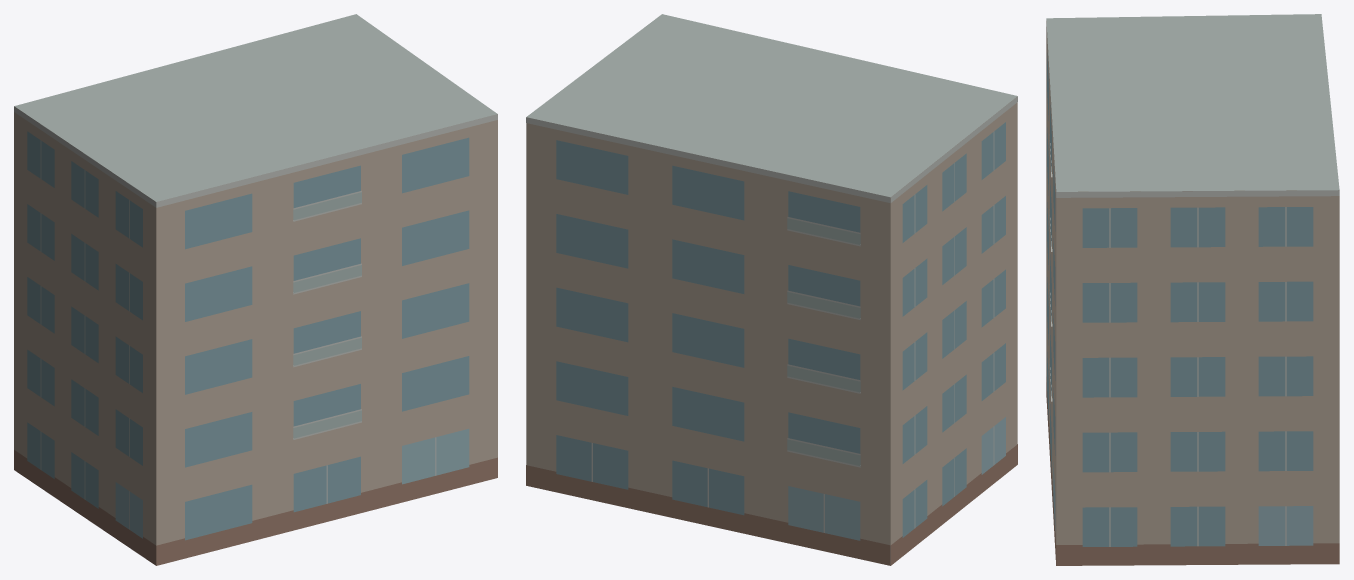
File: survey-upis-32905061.glb
3 renders of one model, left to right at view 1: azimuth 30°, elevation 25°; view 2: azimuth 150°, elevation 25°; view 3: azimuth 270°, elevation 25°, orthographic. The views are drawn at different scales.
Parts seen in each view (by area): view 1: survey-upis-32905061.tmp; view 2: survey-upis-32905061.tmp; view 3: survey-upis-32905061.tmp.
Boxes of the visible parts, x1,y1,x2,y2 form: survey-upis-32905061.tmp: [14, 14, 497, 565]; survey-upis-32905061.tmp: [526, 14, 1017, 565]; survey-upis-32905061.tmp: [1046, 14, 1339, 565].
Size of the model in its own units: 15.57 by 15.25 by 10.85.
